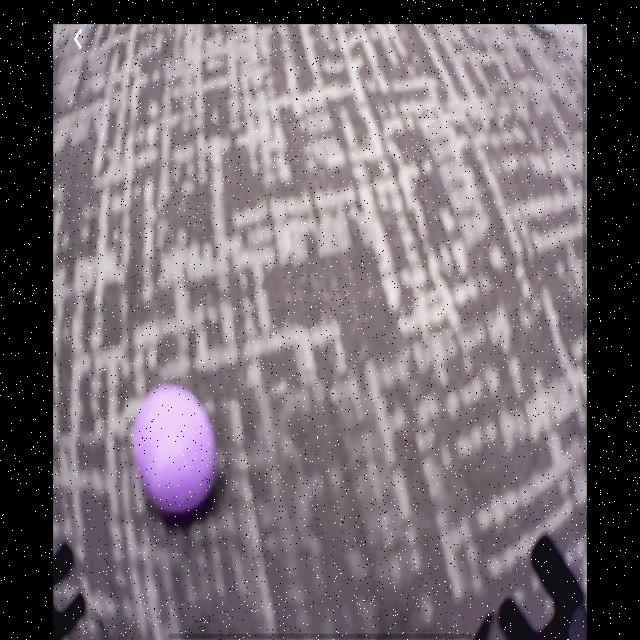ball: (137, 385, 217, 515)
